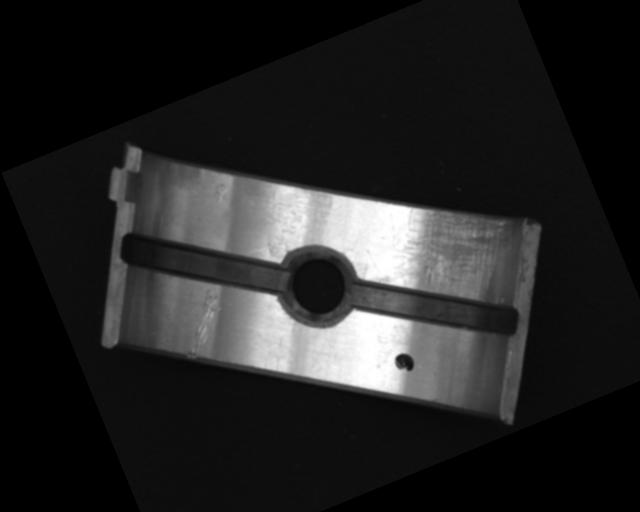blot: (392, 350, 418, 376)
bruise: (210, 179, 235, 205)
gap: (112, 183, 291, 342), (347, 231, 524, 383)
hole: (265, 234, 367, 337)
nick: (166, 285, 238, 362)
scratch: (357, 170, 534, 331)
